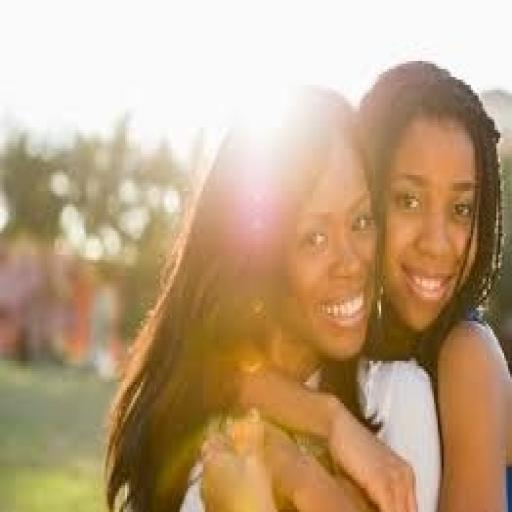hugging: (102, 58, 510, 510)
